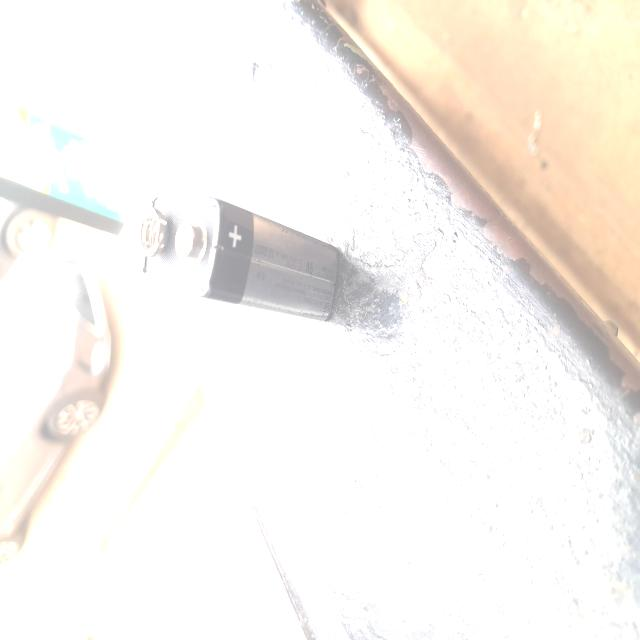9V: (305, 128, 451, 373)
